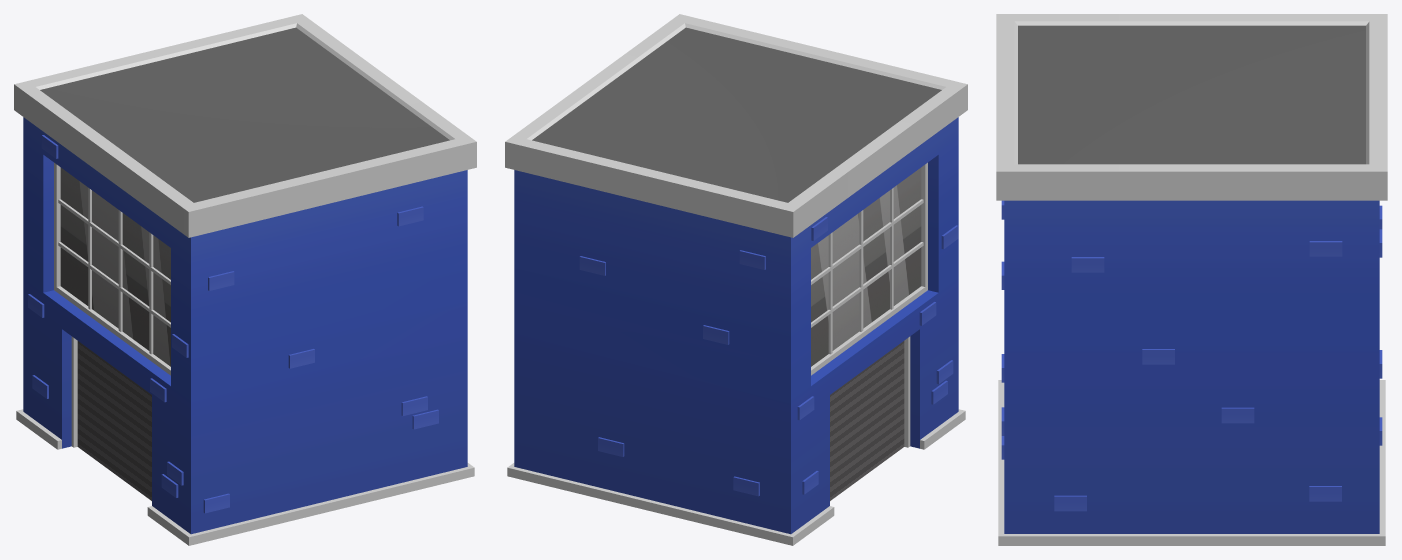
Rendered from Building_10_M.fbx.
3 views of the same model, side by side, from view 1: azimuth 30°, elevation 25°; view 2: azimuth 150°, elevation 25°; view 3: azimuth 270°, elevation 25° (orthographic). The views are drawn at different scales.
Visible parts, largest first — view 1: Building_10_M; view 2: Building_10_M; view 3: Building_10_M.
Boxes of the visible parts, bbox=[...] form: Building_10_M: bbox=[14, 14, 476, 545]; Building_10_M: bbox=[505, 14, 967, 545]; Building_10_M: bbox=[996, 14, 1387, 545].
Size of the model in its own units: 701 by 779 by 736.
